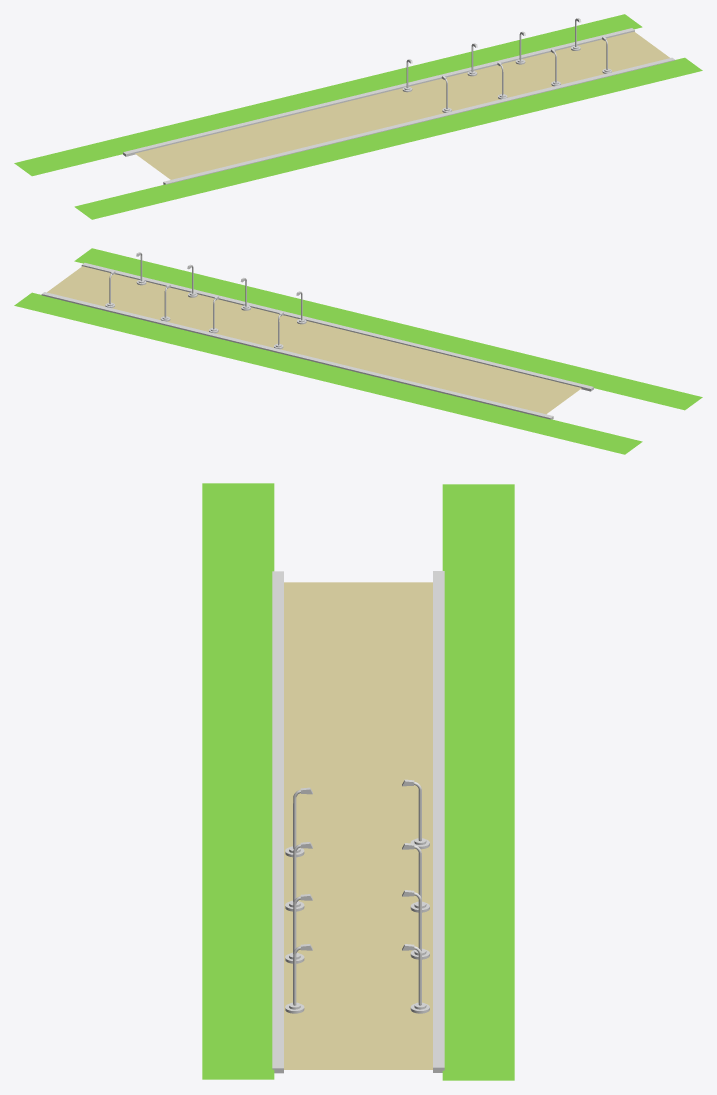
File: road.fbx
The picture shows the model from 3 angles, top to bottom: view 1: azimuth 30°, elevation 25°; view 2: azimuth 150°, elevation 25°; view 3: azimuth 270°, elevation 25°; orthographic projection. The views are drawn at different scales.
Visible parts, largest first — view 1: Plane, Plane.002, Plane.001, Cube.009, Cube.008; view 2: Plane, Plane.001, Plane.002, Cube.009, Cube.008; view 3: Plane, Plane.002, Plane.001, Cube.008, Cube.009.
Part boxes in pixels (bbox=[...]): Plane: bbox=[135, 31, 669, 179]; Plane.002: bbox=[74, 57, 702, 219]; Plane.001: bbox=[14, 14, 642, 176]; Cube.009: bbox=[123, 28, 634, 156]; Cube.008: bbox=[163, 57, 675, 184]; Plane: bbox=[47, 266, 581, 414]; Plane.001: bbox=[14, 292, 642, 454]; Plane.002: bbox=[74, 248, 702, 410]; Cube.009: bbox=[41, 292, 553, 419]; Cube.008: bbox=[81, 263, 593, 391]; Plane: bbox=[284, 582, 432, 1069]; Plane.002: bbox=[202, 483, 274, 1079]; Plane.001: bbox=[442, 484, 514, 1080]; Cube.008: bbox=[272, 571, 283, 1073]; Cube.009: bbox=[433, 571, 444, 1072].
Bounding box in the file's own units: 24000 × 1266 × 5309.
